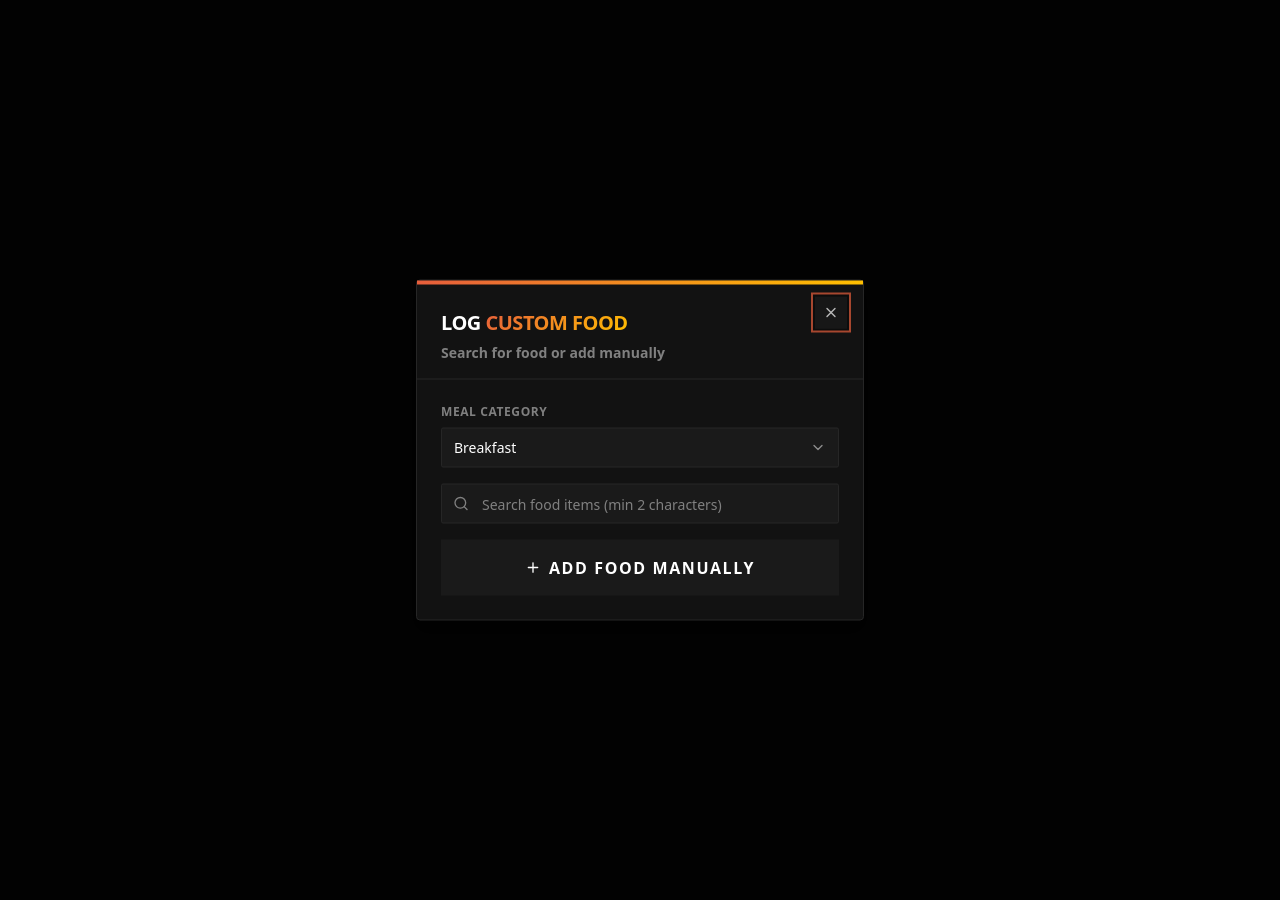
Test: FoodSearch Component › resets manual entry form after successful submission
// Go to manual entry
Step 1. Click the button "Add Food Manually" → click(640, 568), box [441,540,839,596]
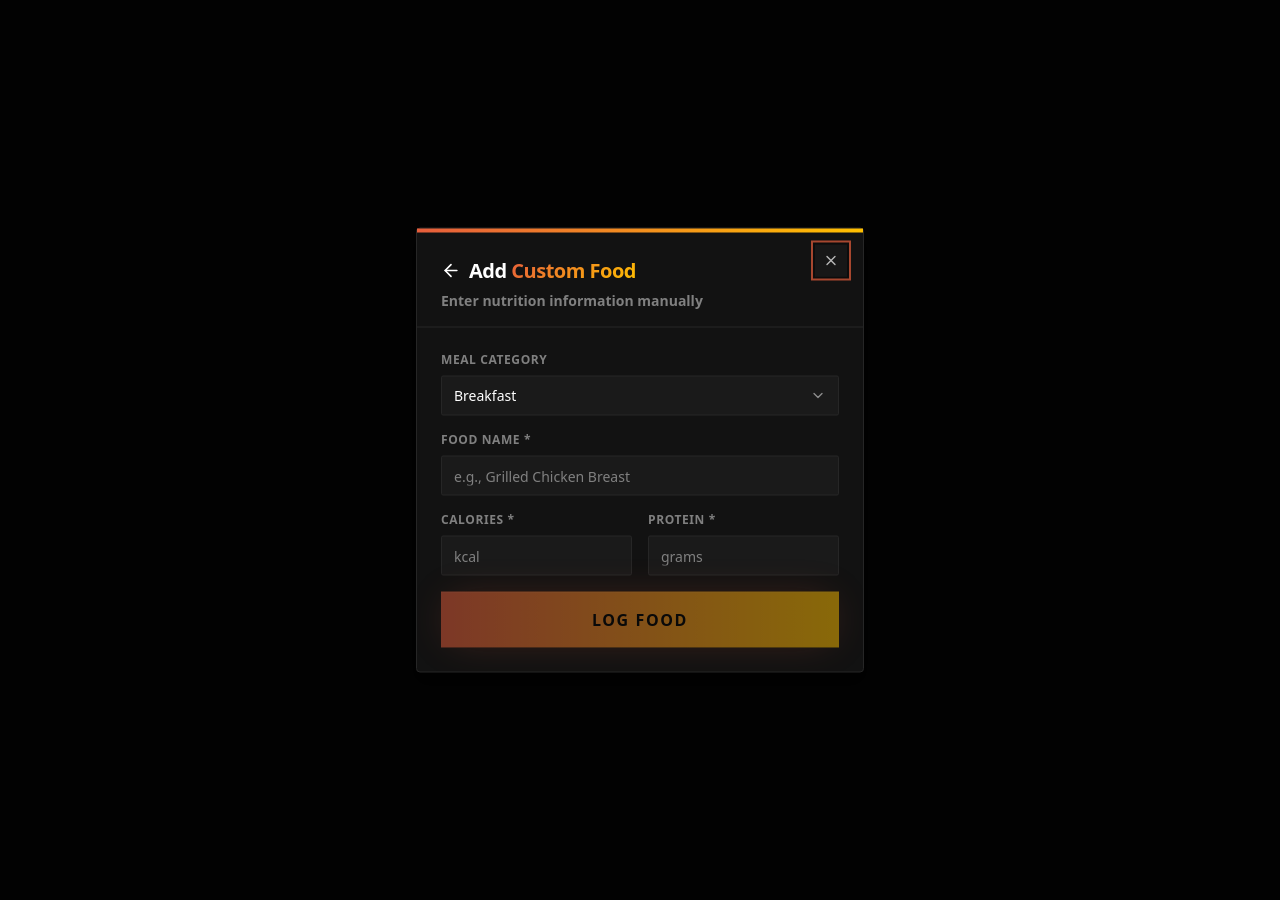
// Fill in the form
Step 2. Type "Test Food" into the field with placeholder "e.g., Grilled Chicken Breast" → (640, 476), box [441,456,839,496]
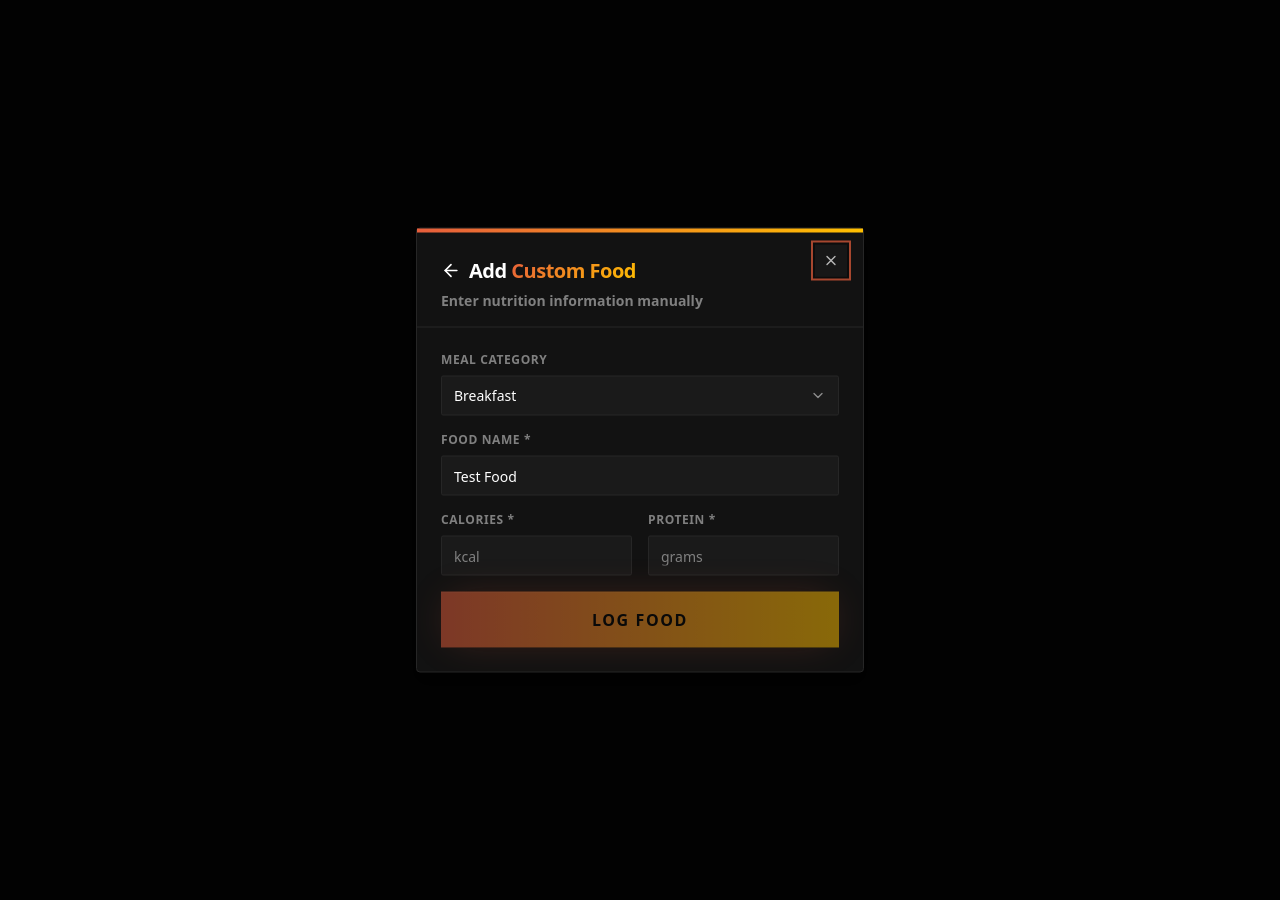
Step 3. Type "200" into the number field with placeholder "kcal" → (536, 556), box [441,536,632,576]
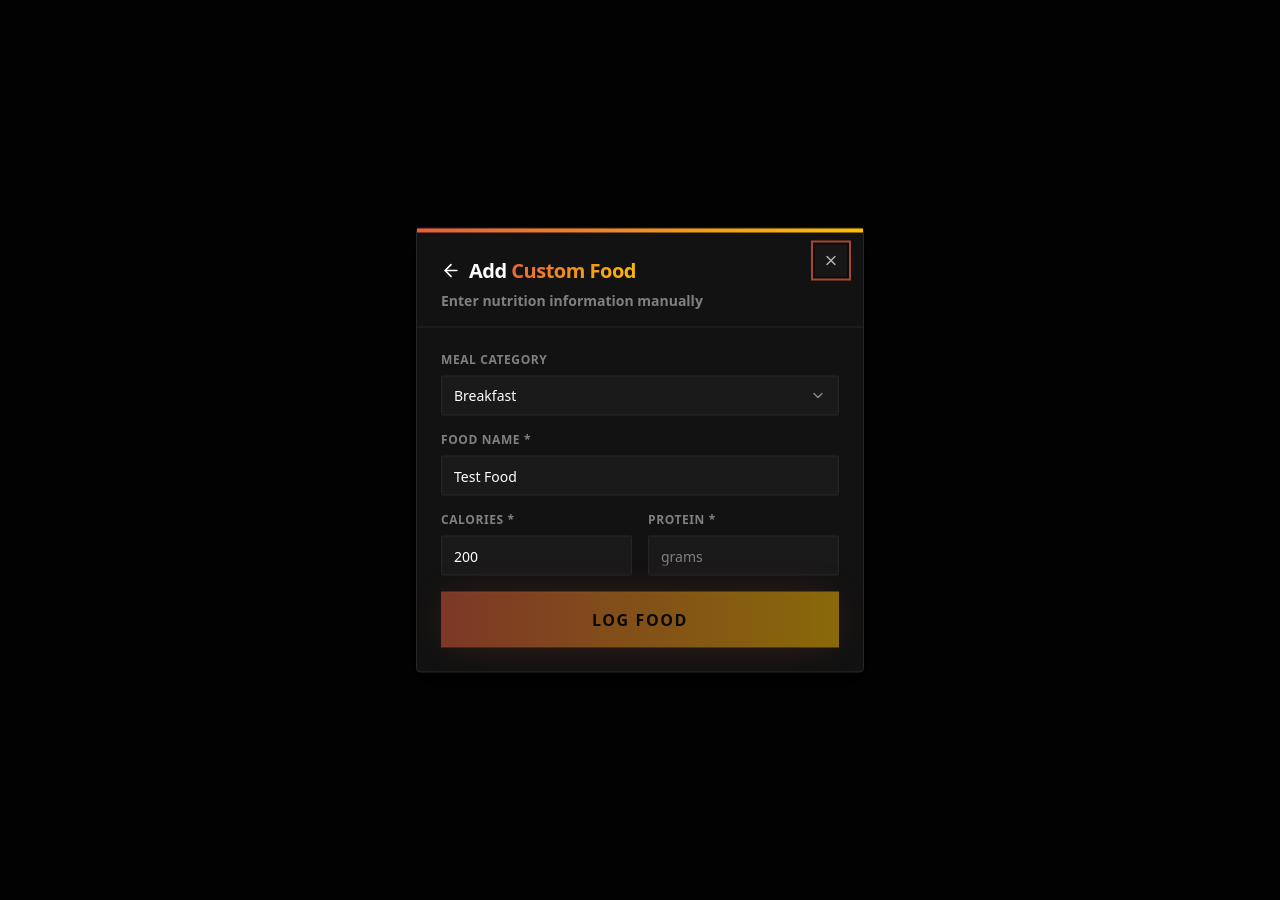
Step 4. Type "15" into the number field with placeholder "grams" → (744, 556), box [648,536,839,576]
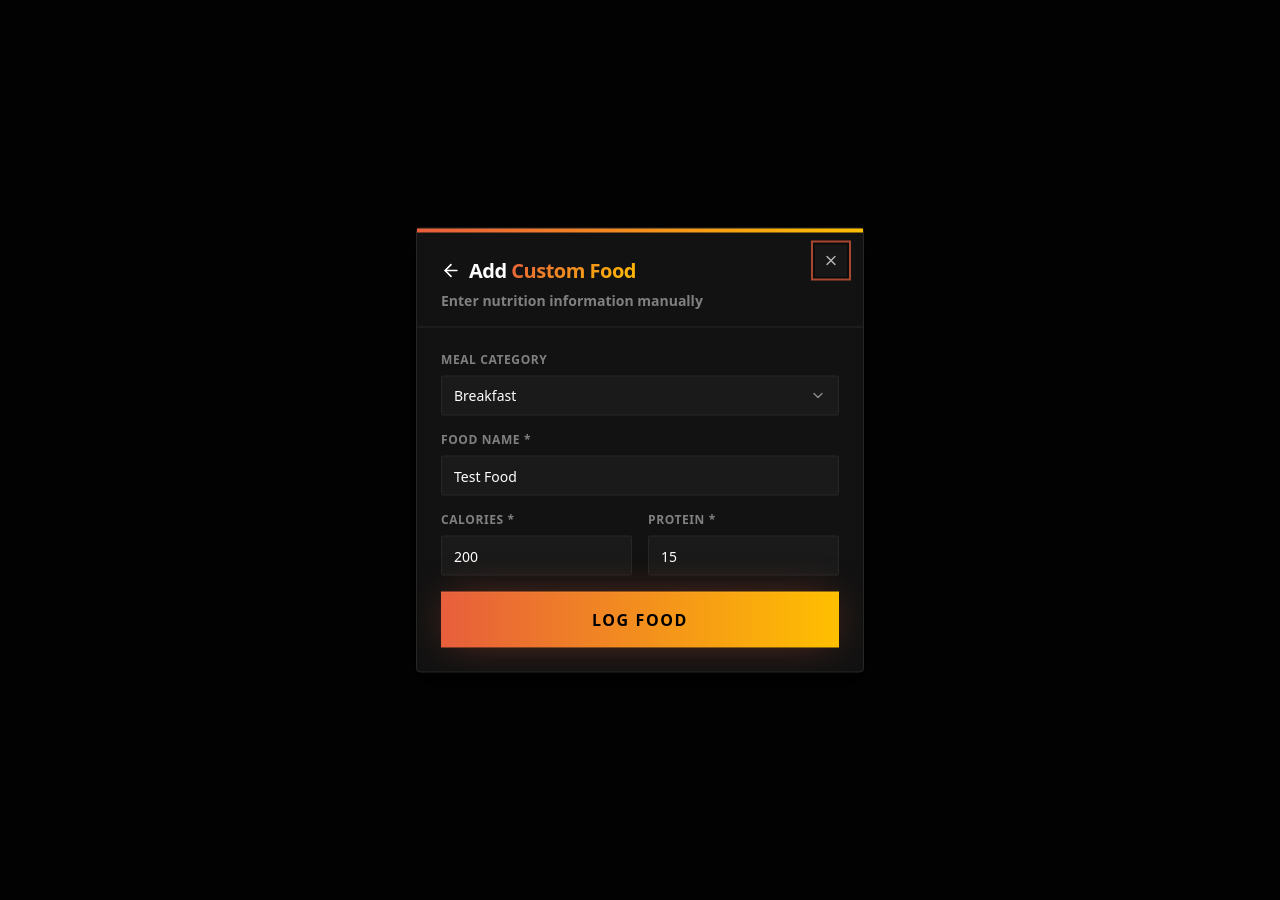
Step 5. Click the button "Log Food" → click(640, 620), box [441,592,839,648]
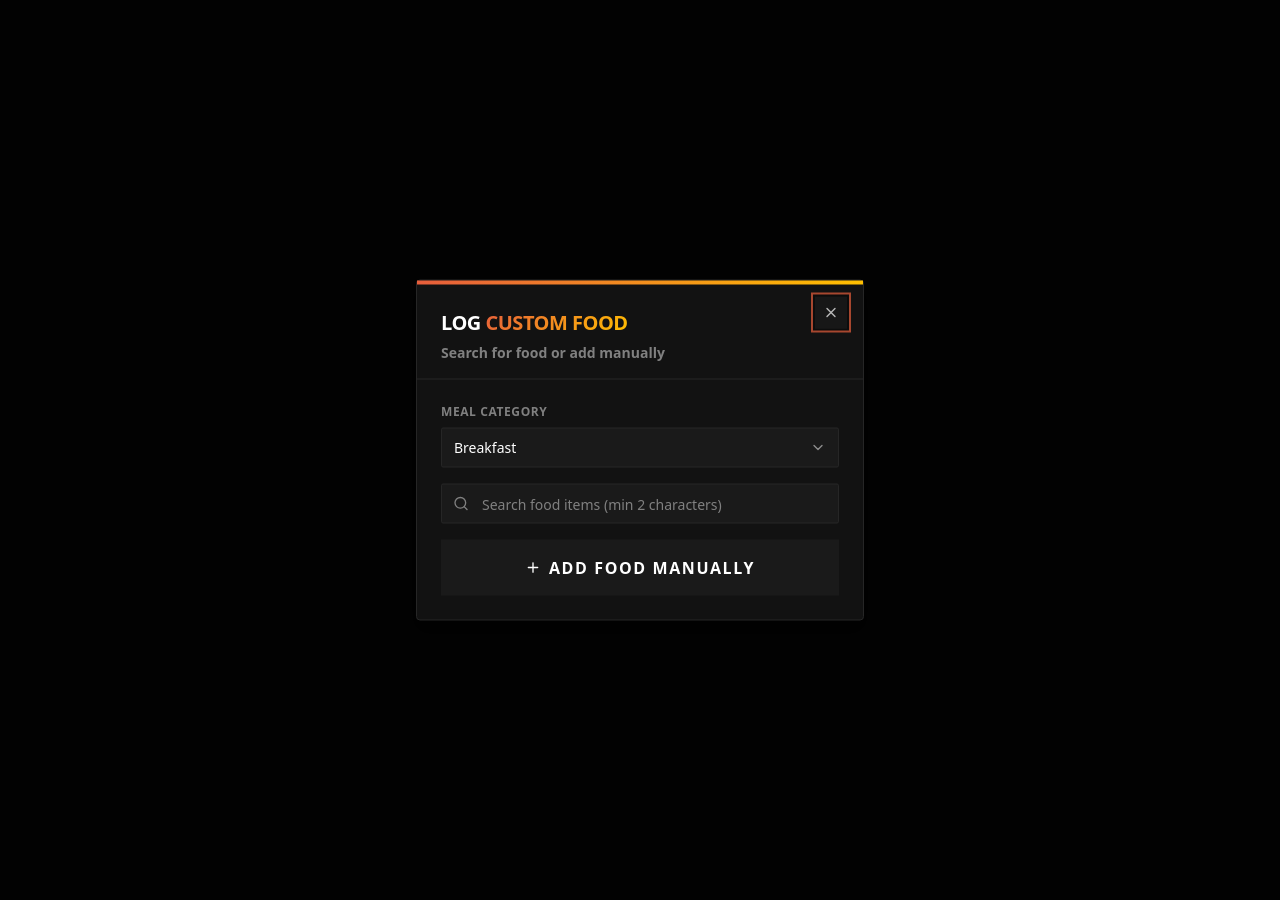
Check: the text "Add Food Manually" is shown, box [549,556,755,580]
